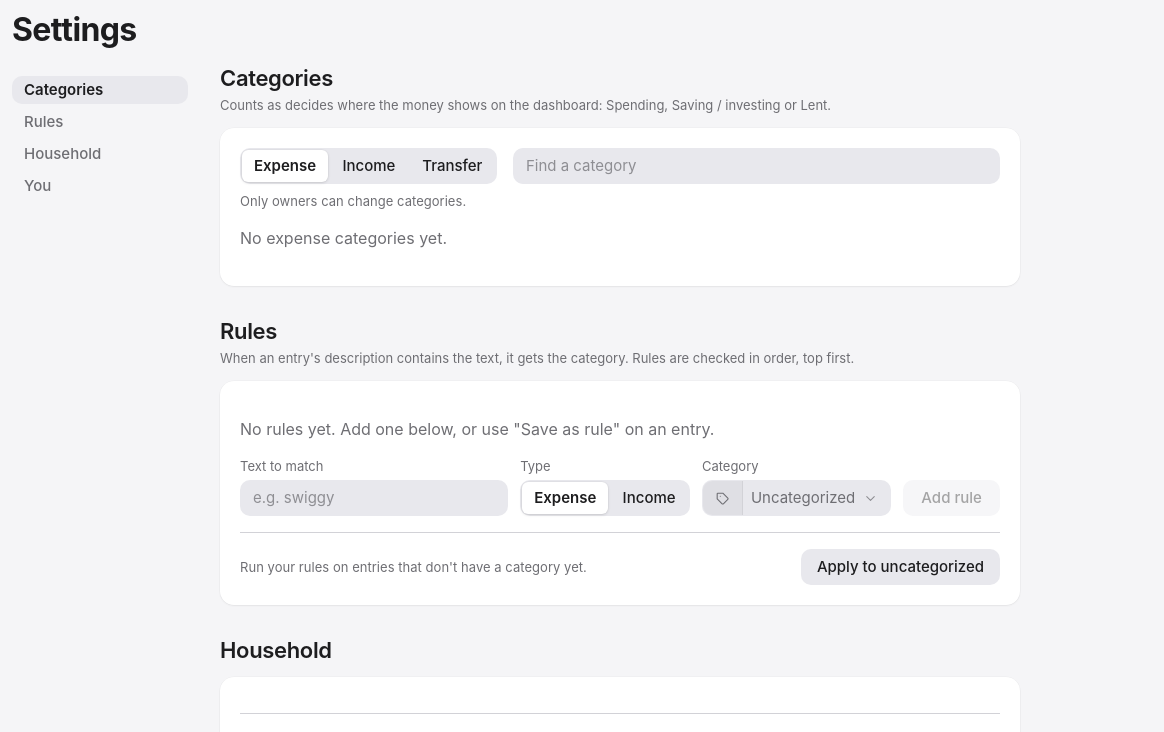
Test: reports what Apply to uncategorized did, with a link to what's left
The image size is (1164, 732).
Click the button "Apply to uncategorized". click: (900, 568)
box: x1=801 y1=550 x2=1000 y2=586
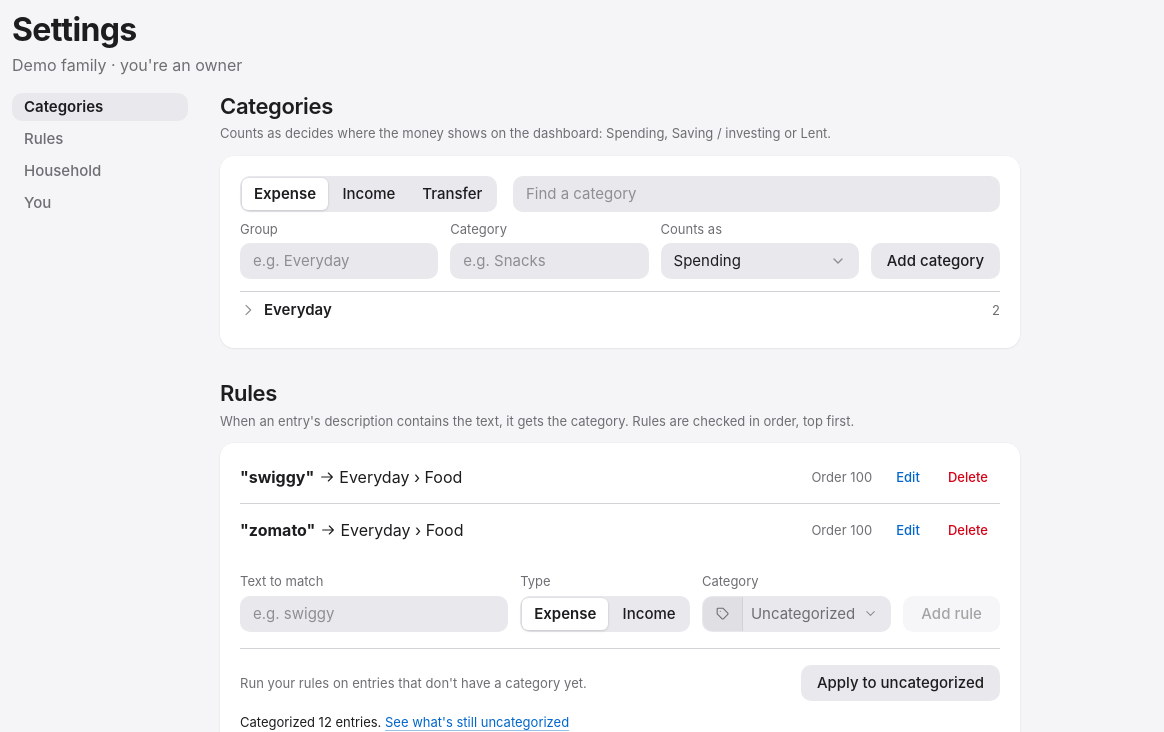
Expected: the text "Categorized 12 entries. See what's still uncategorized" is shown, x1=240 y1=714 x2=569 y2=730
